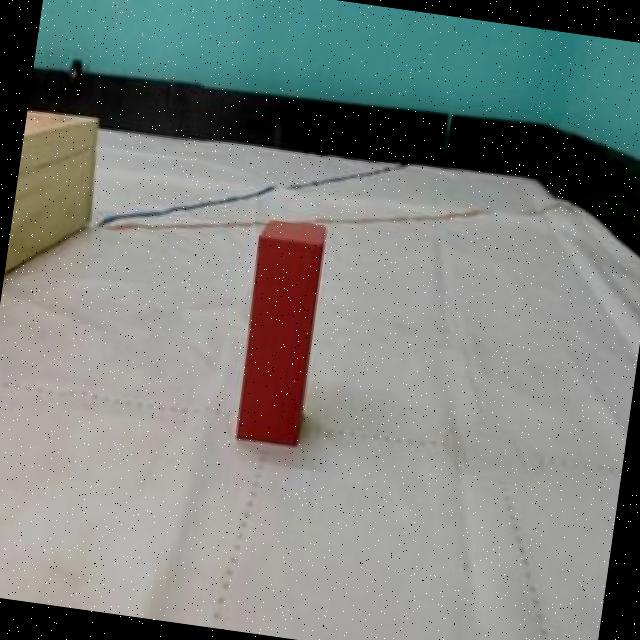redbox: (228, 211, 330, 450)
